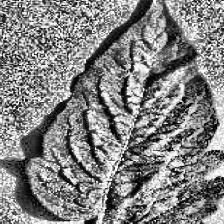spider mites: (28, 0, 224, 224)
